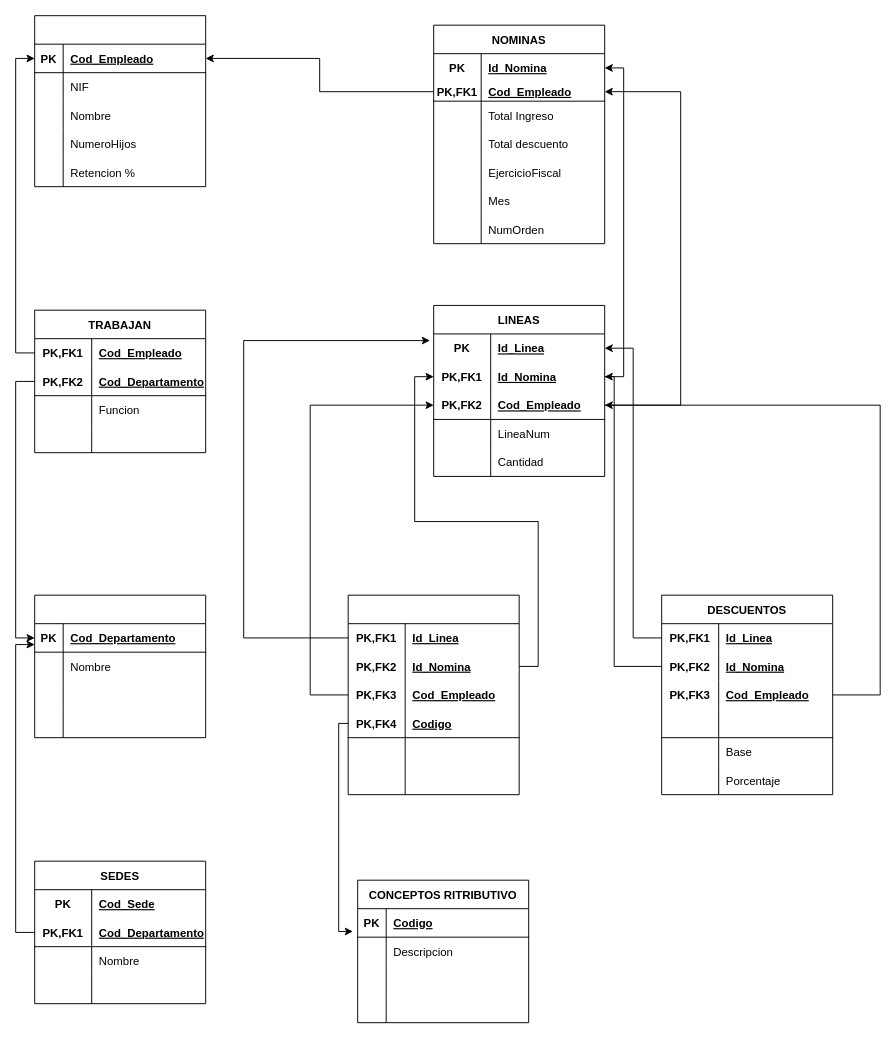
This 896x1038 diagram has some shape labels left out. The box of each missing label's shape, as (x1, y1, x2, y2) in pixels:
EMPLEADOS: (34, 15, 206, 187)
INGRESOS: (347, 594, 519, 795)
Table: (34, 594, 206, 738)
